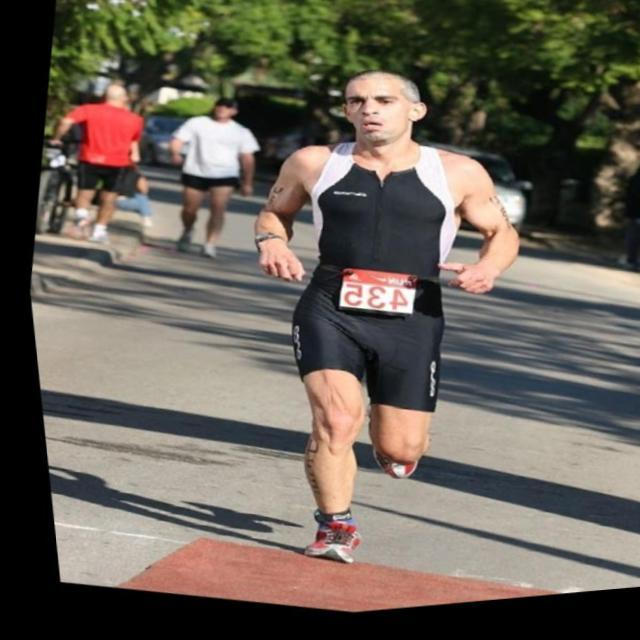dorsal: (323, 264, 418, 334)
